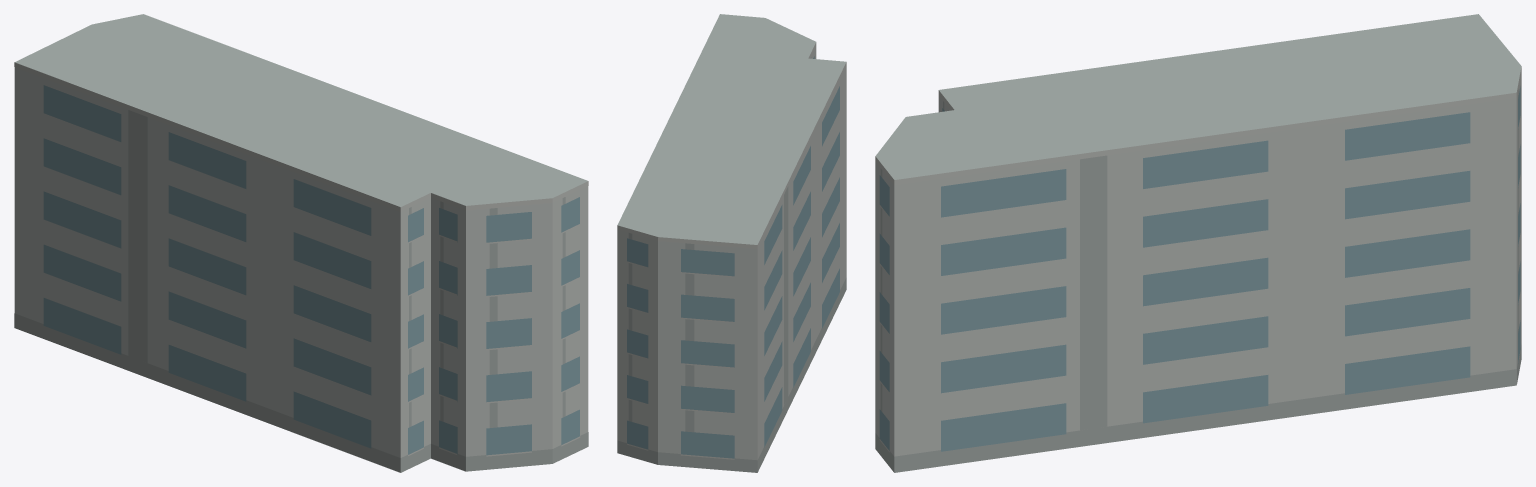
File: survey-upis-32987469.glb
3 views of the same model, side by side, from view 1: azimuth 30°, elevation 25°; view 2: azimuth 150°, elevation 25°; view 3: azimuth 270°, elevation 25° (orthographic). The views are drawn at different scales.
Visible parts, largest first — view 1: survey-upis-32987469.tmp; view 2: survey-upis-32987469.tmp; view 3: survey-upis-32987469.tmp.
Boxes of the visible parts, x1,y1,x2,y2 form: survey-upis-32987469.tmp: (14,14,588,472); survey-upis-32987469.tmp: (617,14,846,472); survey-upis-32987469.tmp: (875,14,1521,472).
Bounding box in the file's own units: 16.43 × 13.5 × 27.01.
